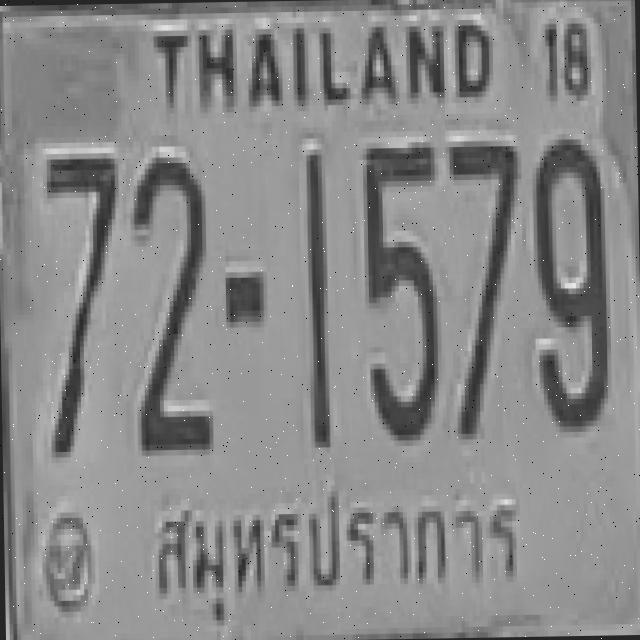1: (302, 146, 326, 439), (302, 146, 325, 400)
2: (128, 148, 210, 442), (129, 148, 209, 414)
5: (358, 138, 439, 438), (360, 138, 434, 310)
7: (42, 152, 119, 452), (445, 134, 522, 433), (43, 152, 119, 413), (42, 152, 118, 352), (445, 134, 520, 328)
9: (532, 132, 608, 426)
SamutPrakan: (149, 478, 526, 624)
